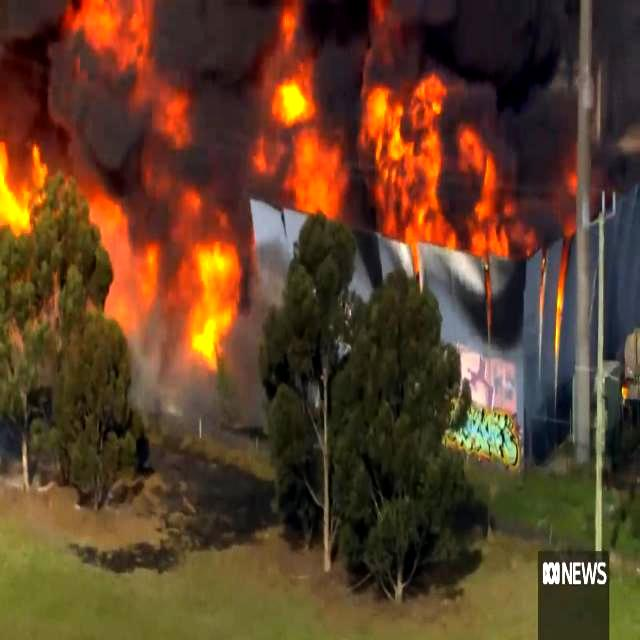fire: (361, 70, 503, 260), (72, 0, 188, 140), (84, 184, 162, 340), (166, 224, 250, 360), (272, 67, 348, 216), (0, 143, 50, 239), (278, 4, 306, 48)
